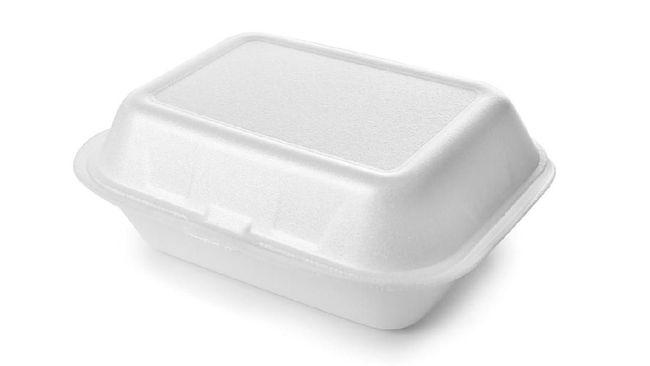PS: (72, 32, 557, 330)
